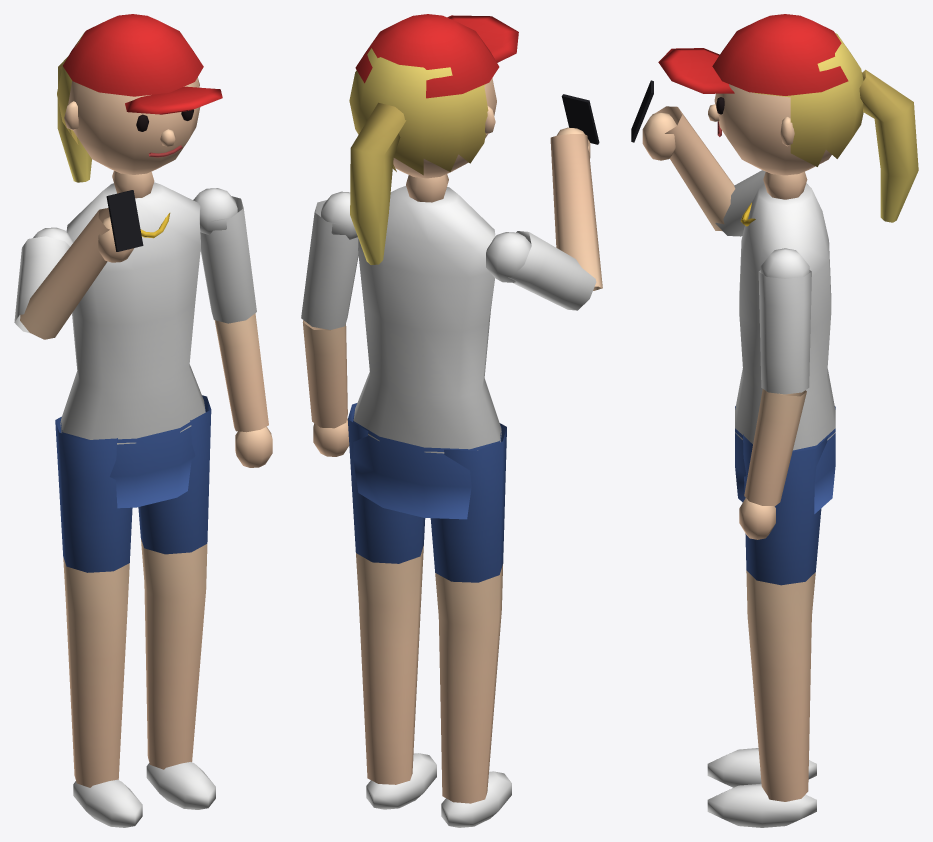
The model's file is VIP_Influencer.obj.
The picture shows the model from 3 angles, left to right: view 1: azimuth 30°, elevation 25°; view 2: azimuth 150°, elevation 25°; view 3: azimuth 270°, elevation 25°; orthographic projection. The views are drawn at different scales.
Visible parts, largest first — view 1: Torso, LegR, Head, LegL, ArmL, ArmR; view 2: Torso, Head, LegR, LegL, ArmR, ArmL; view 3: Head, LegL, Torso, ArmL, ArmR, LegR.
Boxes of the visible parts, <box> form: Torso: <box>60,171,205,508</box>; LegR: <box>55,416,142,827</box>; Head: <box>57,14,222,182</box>; LegL: <box>138,395,215,809</box>; ArmL: <box>193,188,272,467</box>; ArmR: <box>14,190,143,339</box>; Torso: <box>353,174,501,519</box>; Head: <box>349,14,518,264</box>; LegR: <box>430,423,511,827</box>; LegL: <box>347,403,436,809</box>; ArmR: <box>486,94,602,310</box>; ArmL: <box>301,191,358,456</box>; Head: <box>658,14,918,222</box>; LegL: <box>707,434,827,827</box>; Torso: <box>735,171,835,513</box>; ArmL: <box>739,248,811,539</box>; ArmR: <box>631,80,809,236</box>; LegR: <box>707,748,816,787</box>.
Size of the model in its own units: 0.6306 by 1.78 by 0.5894.
Materials: 1 (1 with a texture image).
